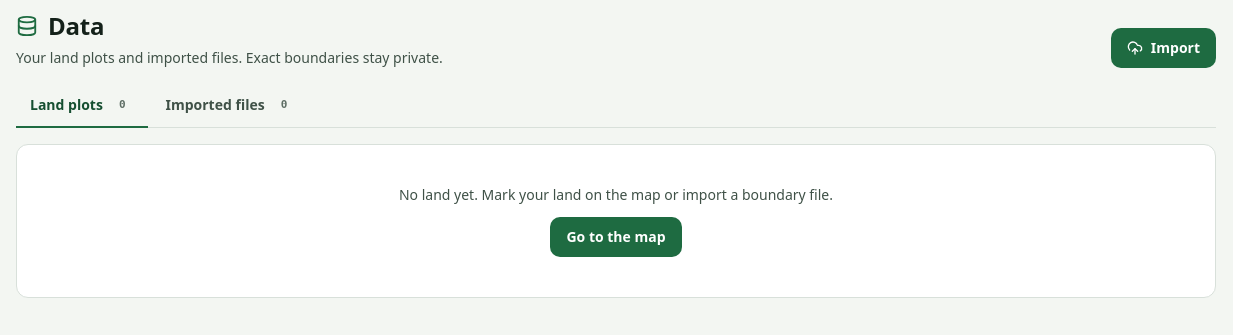
Test: DataPage › shows friendly empty states
Expected: the text "No land yet. Mark your land on the map" is shown, [399,185,833,204]
Click the tab "Imported files 0": (230, 106) [152,84,309,128]
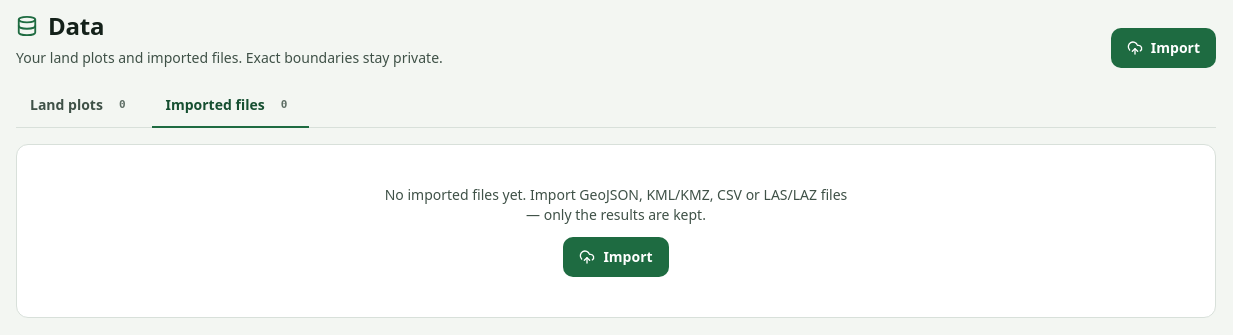
Expected: the text "No imported files yet" is shown, [385,185,847,224]
